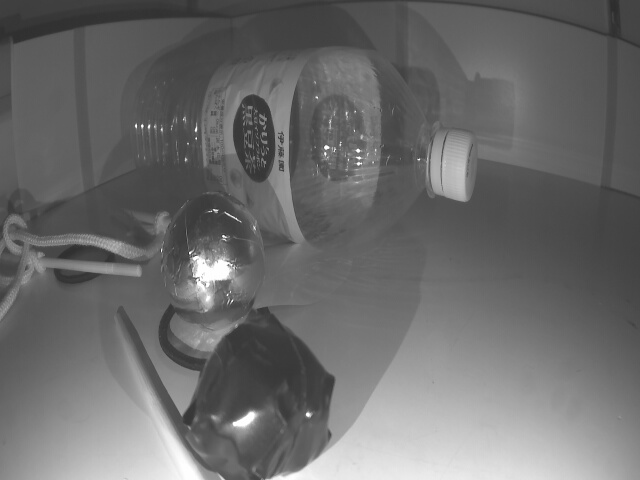Dead: (187, 313, 334, 480)
Live: (156, 192, 261, 323)
